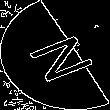N_NE: (14, 26, 96, 84)
